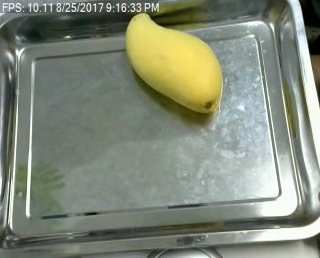Mango: (120, 9, 227, 115)
